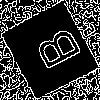B: (24, 25, 83, 77)
